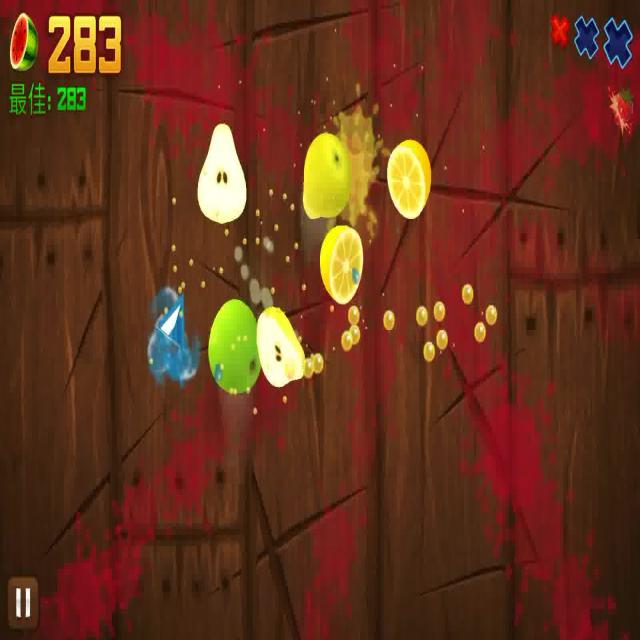fruit: (208, 300, 260, 398), (198, 123, 246, 220), (300, 128, 349, 220), (319, 227, 366, 311), (258, 304, 306, 386), (388, 140, 432, 217)
